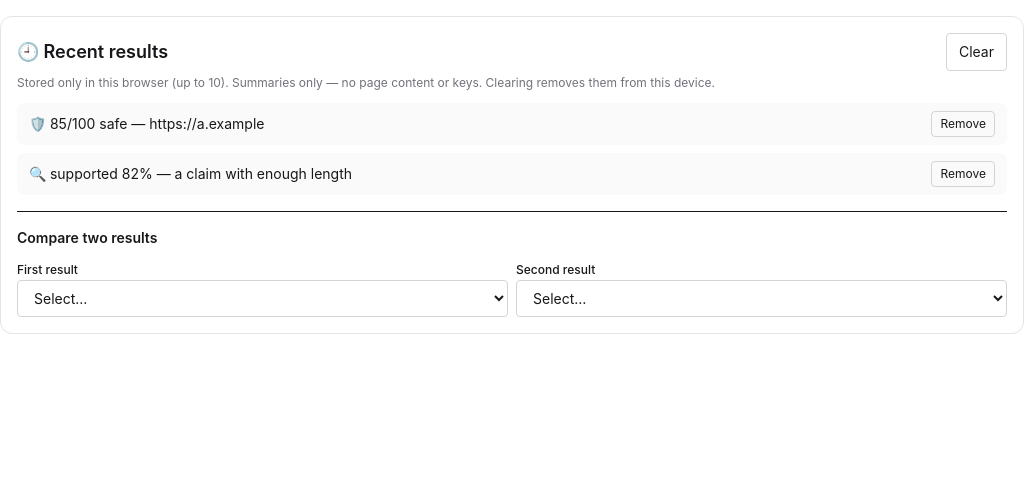
Test: RecentsCompare › renders two selected results side by side
The image size is (1024, 497).
Select "Score 85/100 https://a.example" in the dropdown labelled "First result" at (262, 298), box [17,280,508,317]
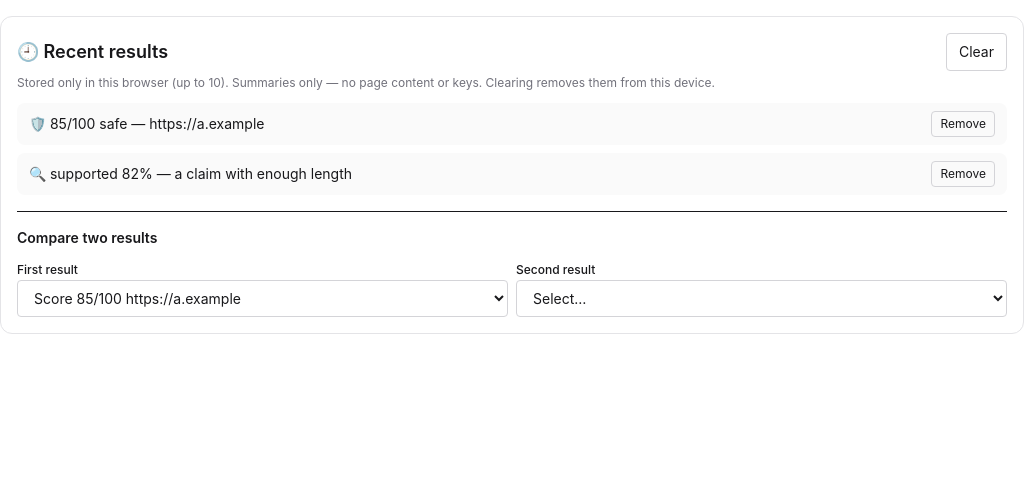
Select "supported “a claim with enough length”" in the dropdown labelled "Second result" at (762, 298), box [516,280,1007,317]
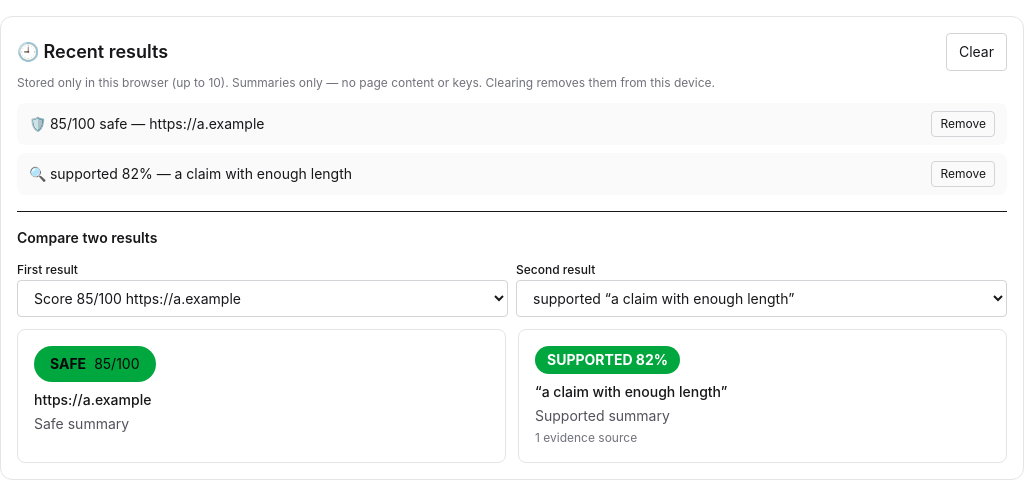
Expected: the element named "Side-by-side comparison" is shown, [17,329,1007,463]
Expected: the element named "Side-by-side comparison" shows "https://a.example", [34,391,151,408]
Expected: the element named "Side-by-side comparison" shows "SUPPORTED", [547,351,632,368]
